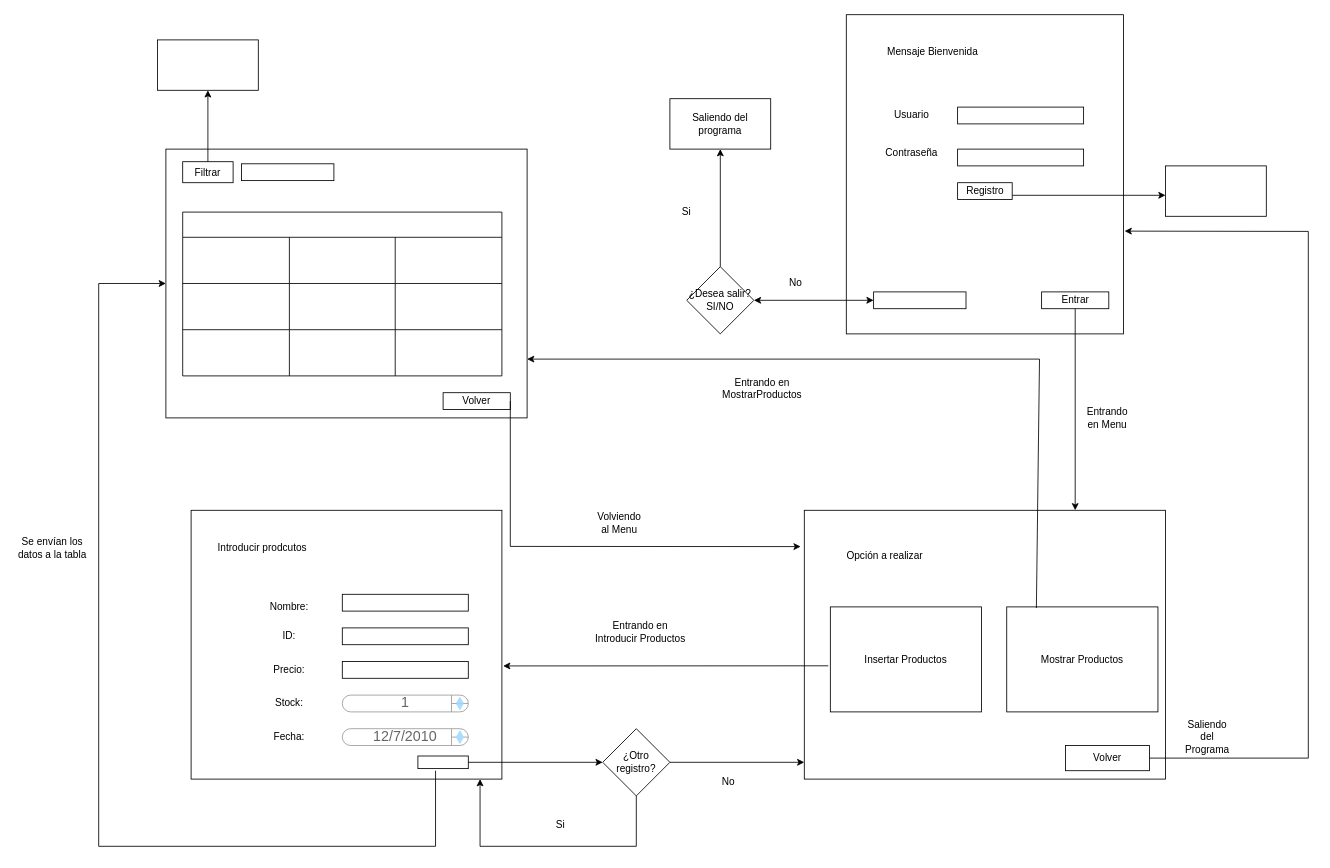
The diagram is 1330 pixels wide and 868 high, and some of its shapes have lost their labels. The shapes that lost their labels are listed below. From the top down, each one's centre as x and y in pixels, then its label:
At (x=207, y=64): "Filtrado de tabla segun lo que pona en el textfield".
At (x=1215, y=190): "Creando usuario y contraseña".
At (x=342, y=293): "Tabla".
At (x=919, y=300): "Salir del Programa".
At (x=442, y=762): "Enviar".
